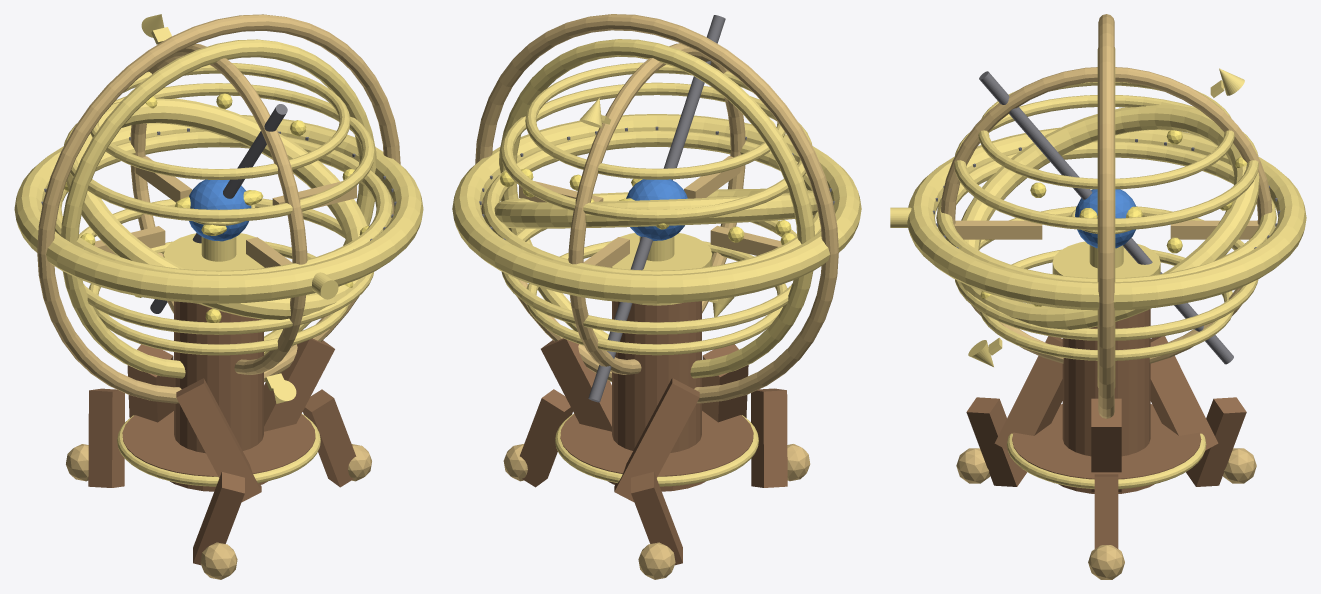
The model's file is armillary_sphere.glb.
3 renders of one model, left to right at view 1: azimuth 30°, elevation 25°; view 2: azimuth 150°, elevation 25°; view 3: azimuth 270°, elevation 25°, orthographic. The views are drawn at different scales.
Visible parts, largest first — view 1: Torus.002, Torus.001, Torus.003, Torus.010, Cylinder, Torus.009, Torus.005, Torus.004, Cylinder.003, Torus.007, Torus.008, Cube.004 (+19 smaller); view 2: Torus.002, Torus.001, Torus.003, Cylinder, Torus.005, Torus.009, Torus.004, Torus.010, Cylinder.003, Torus.007, Torus.008, Cube.002 (+17 smaller); view 3: Torus.002, Torus.010, Cylinder, Torus.005, Torus.001, Torus.009, Torus.004, Cylinder.003, Torus.008, Torus.006, Torus.007, Cube.004 (+15 smaller).
Boxes of the visible parts, x1,y1,x2,y2 form: Torus.002: (14,115,423,303); Torus.001: (37,14,400,403); Torus.003: (61,39,376,378); Torus.010: (66,98,367,319); Cylinder: (174,301,263,453); Torus.009: (63,83,375,222); Torus.005: (130,44,307,374); Torus.004: (55,131,392,274); Cylinder.003: (122,411,315,486); Torus.007: (90,63,350,179); Torus.008: (79,198,373,334); Cube.004: (176,378,261,501); Torus.002: (452,114,861,303); Torus.001: (475,14,838,403); Torus.003: (499,39,814,378); Cylinder: (612,301,701,452); Torus.005: (568,43,745,374); Torus.009: (500,82,812,221); Torus.004: (482,130,820,274); Torus.010: (494,188,817,228); Cylinder.003: (560,411,753,486); Torus.007: (525,62,785,179); Torus.008: (501,220,796,334); Cube.002: (614,378,699,501); Torus.002: (907,127,1306,310); Torus.010: (959,104,1259,329); Cylinder: (1062,309,1150,456); Torus.005: (941,67,1272,363); Torus.001: (1098,14,1114,418); Torus.009: (954,95,1258,230); Torus.004: (936,141,1276,281); Cylinder.003: (1012,404,1201,489); Torus.008: (955,206,1258,340); Torus.006: (979,249,1233,360); Torus.007: (978,82,1234,189); Cube.004: (994,336,1062,450).
Bounding box in the file's own units: 1.21 × 1.57 × 1.23.
